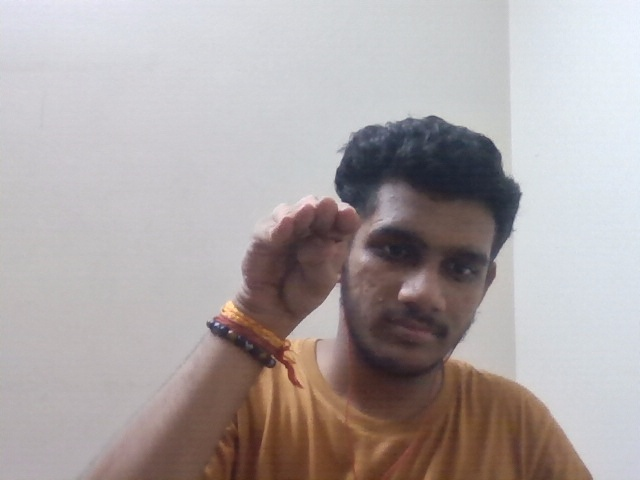no: (235, 192, 374, 353)
